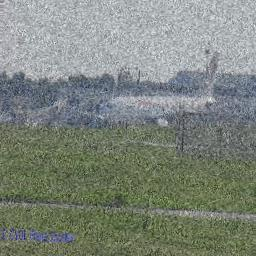Airplane: (99, 69, 216, 131)
